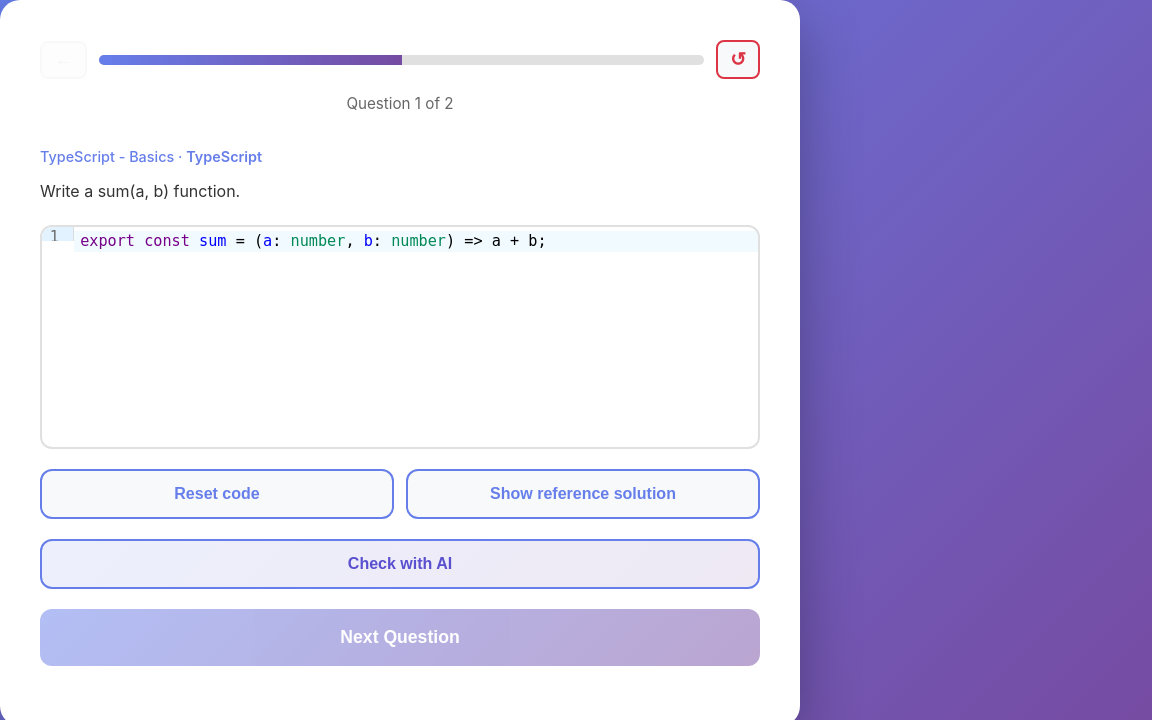
Test case: QuizScreen - AI grading › does not put a late grade on the next task
Click the button "Check with AI".
click(400, 564)  # box x1=40 y1=539 x2=760 y2=589
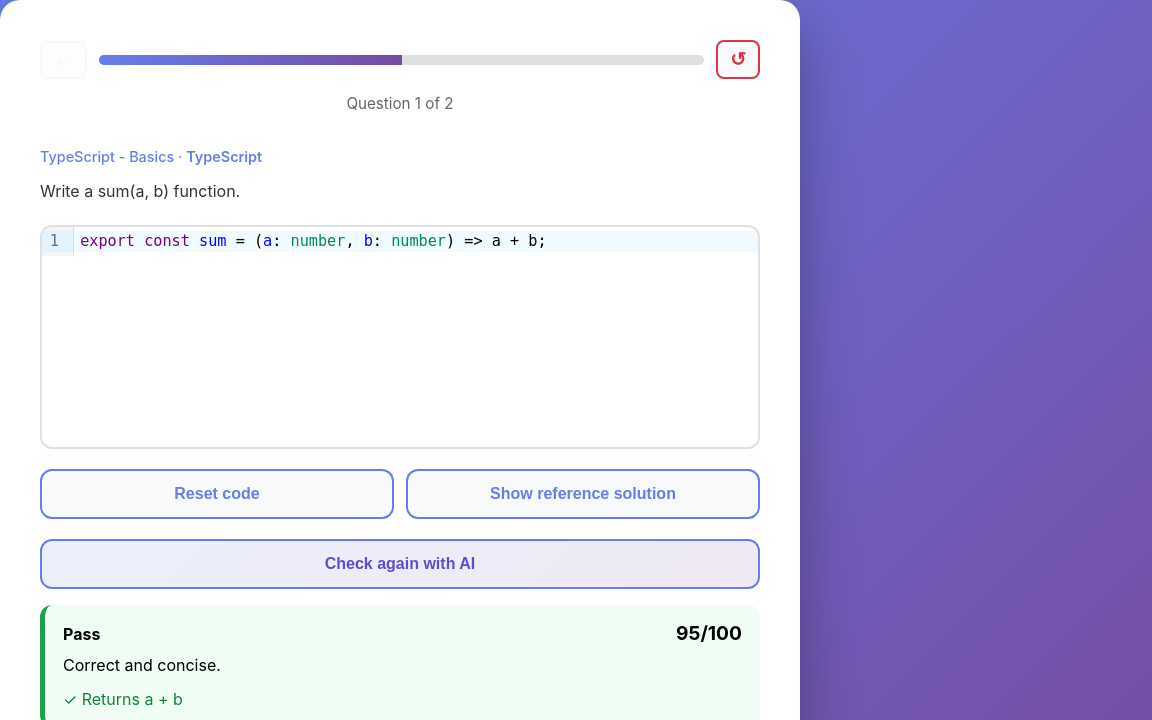
Result: the text "Correct and concise." is shown at x1=63 y1=655 x2=221 y2=675
Click the button "Check again with AI".
click(400, 564)  # box x1=40 y1=539 x2=760 y2=589
(page scrolled)
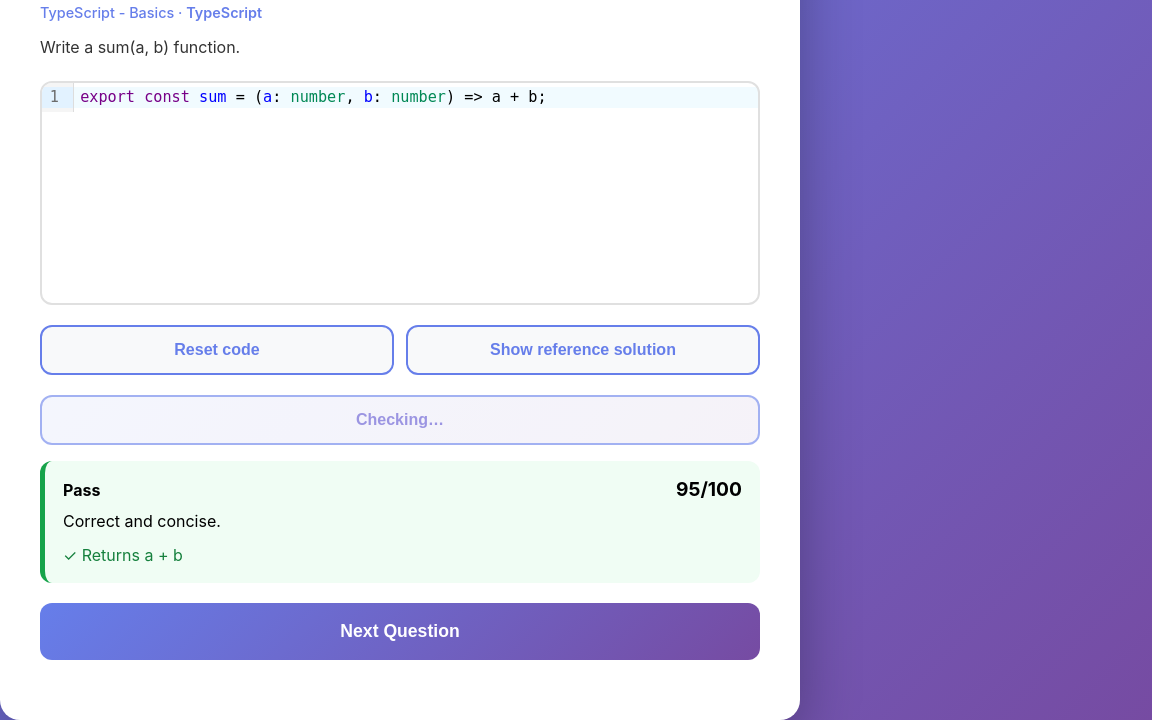
Click the button "Next Question".
click(400, 632)  # box x1=40 y1=603 x2=760 y2=660
(page scrolled)
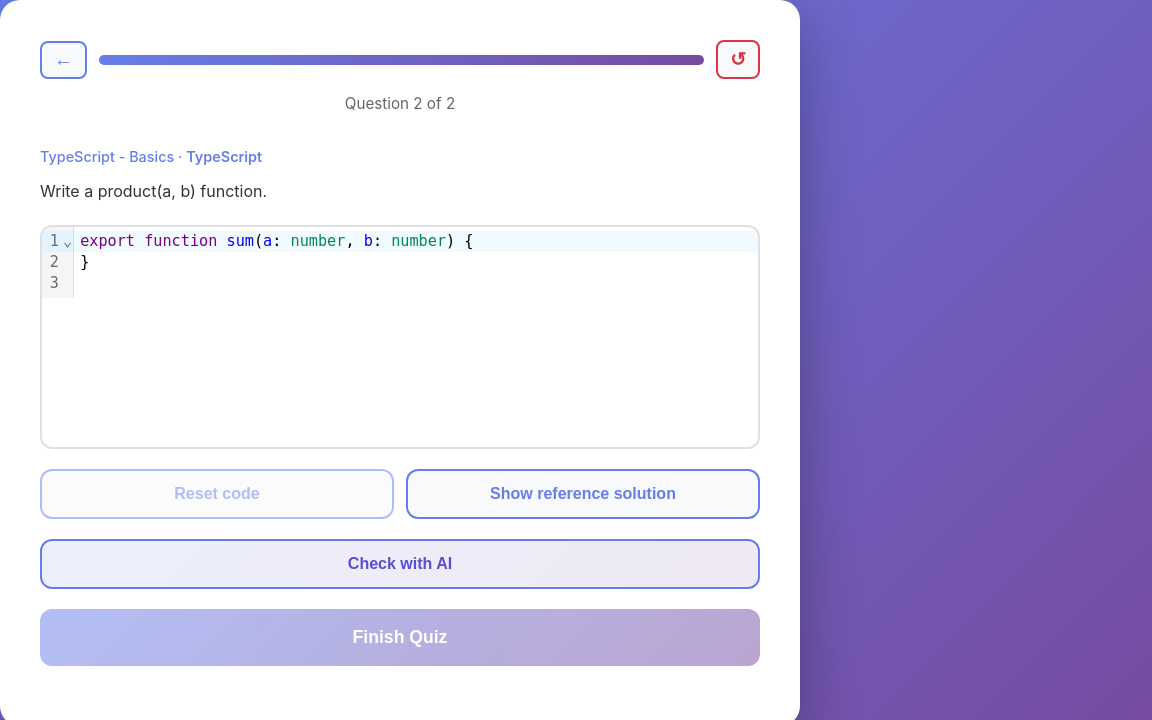
Result: the text "Write a product(a, b) function." is shown at x1=40 y1=181 x2=267 y2=201
Result: the button "Finish Quiz" is disabled at x1=40 y1=609 x2=760 y2=666
